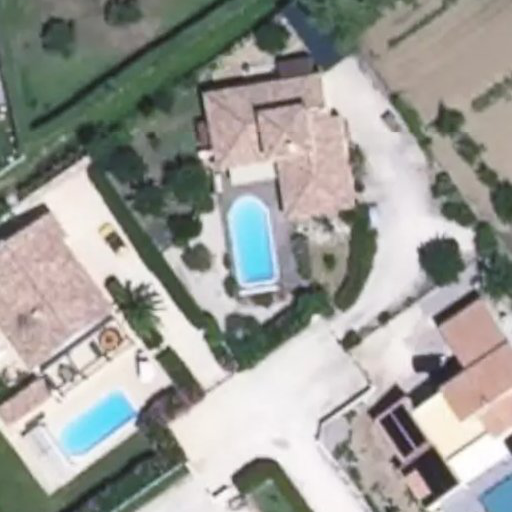pool: (228, 200, 280, 280)
